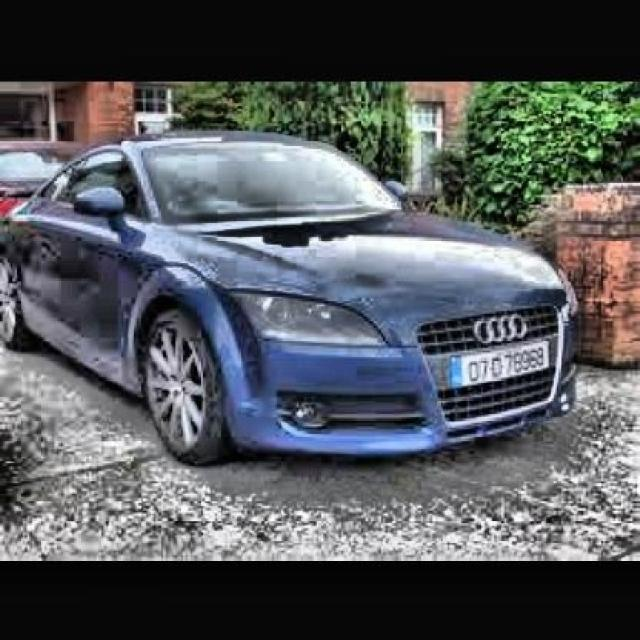blue: (0, 132, 577, 456)
